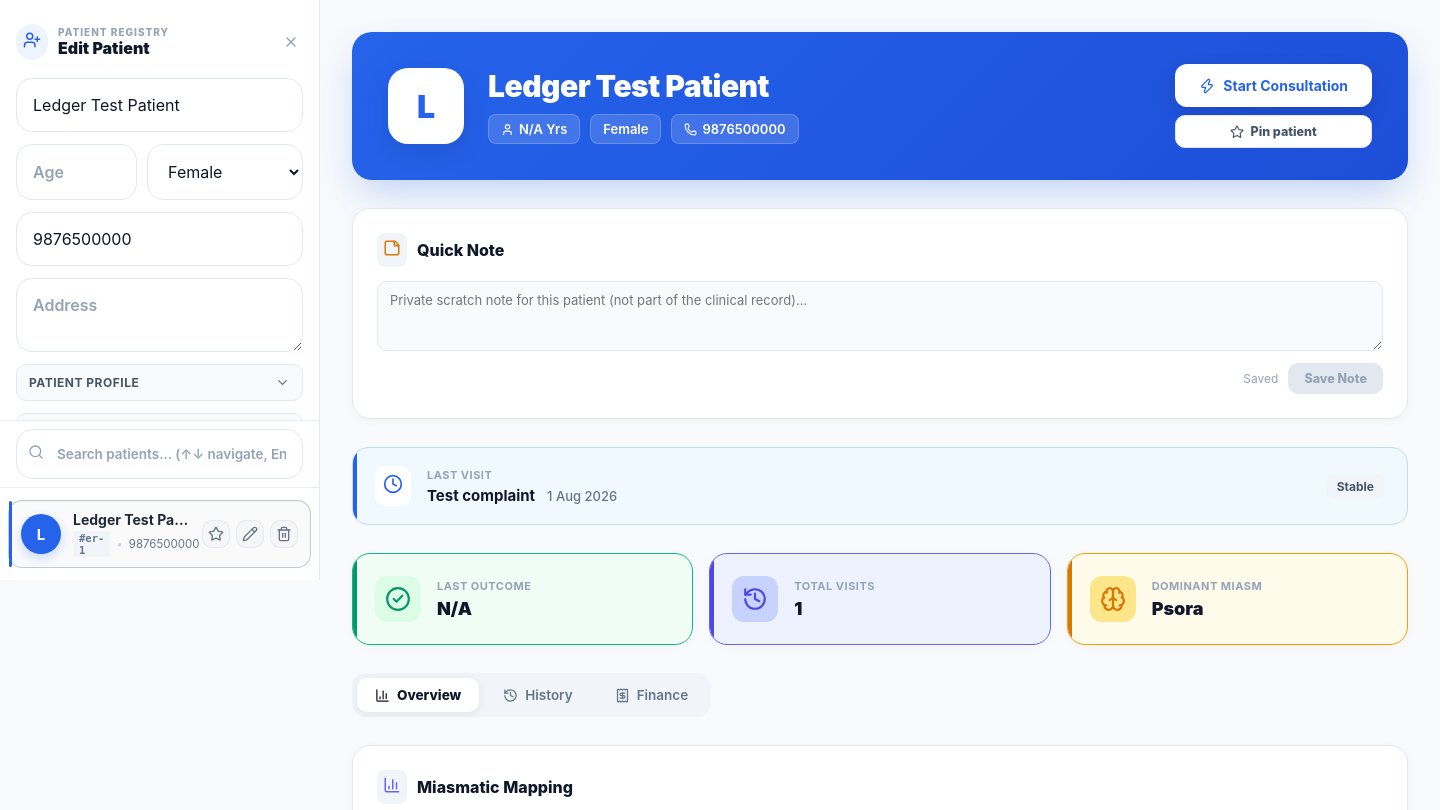
Test case: Patient Ledger — payment reference/notes/screenshot › renders payment reference number and notes in the Finance tab
The width and height of the screenshot is (1440, 810).
Click the button "Finance" at (651, 695), box [597, 678, 706, 712]
(page scrolled)
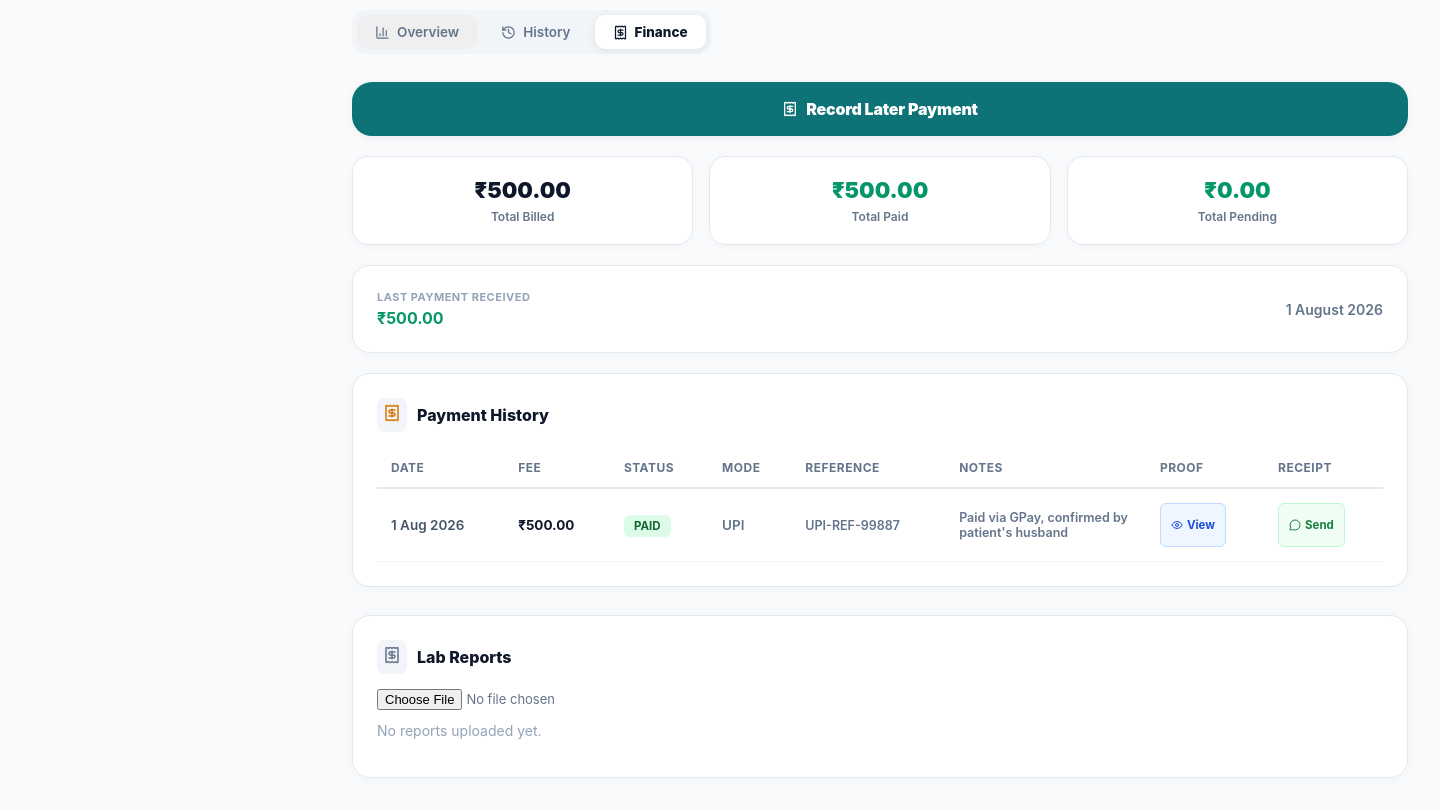
Now the text "UPI-REF-99887" is shown, box [791, 488, 945, 562]
Now the text "Paid via GPay, confirmed by patient's husband" is shown, box [945, 488, 1146, 562]
